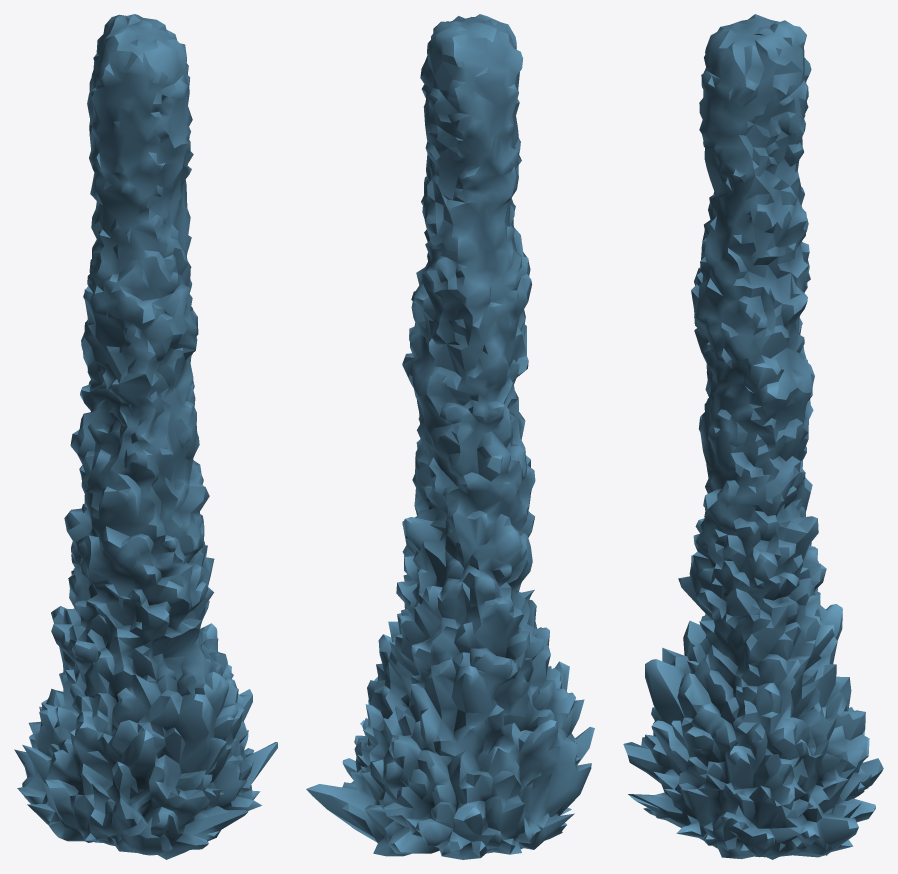
File: hvs_crystal_large01.fbx
3 renders of one model, left to right at view 1: azimuth 30°, elevation 25°; view 2: azimuth 150°, elevation 25°; view 3: azimuth 270°, elevation 25°, orthographic.
Parts seen in each view (by area): view 1: hvs_crystal_large01_lod0; view 2: hvs_crystal_large01_lod0; view 3: hvs_crystal_large01_lod0.
Part boxes in pixels (box(x1,y1,x2,y2)): hvs_crystal_large01_lod0: box(14, 14, 277, 859); hvs_crystal_large01_lod0: box(306, 14, 594, 859); hvs_crystal_large01_lod0: box(623, 14, 883, 859).
Bounding box in the file's own units: 12.14 × 41.45 × 11.88.
